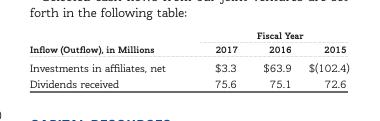table: (28, 28, 348, 90)
table column: (28, 28, 189, 90), (189, 28, 249, 90), (249, 28, 299, 90), (299, 28, 348, 90)
table column header: (28, 28, 348, 57)
table row: (28, 57, 348, 75), (28, 41, 348, 57), (28, 75, 348, 90), (28, 28, 348, 41)
table spanning cell: (28, 28, 189, 57), (189, 28, 348, 41)
